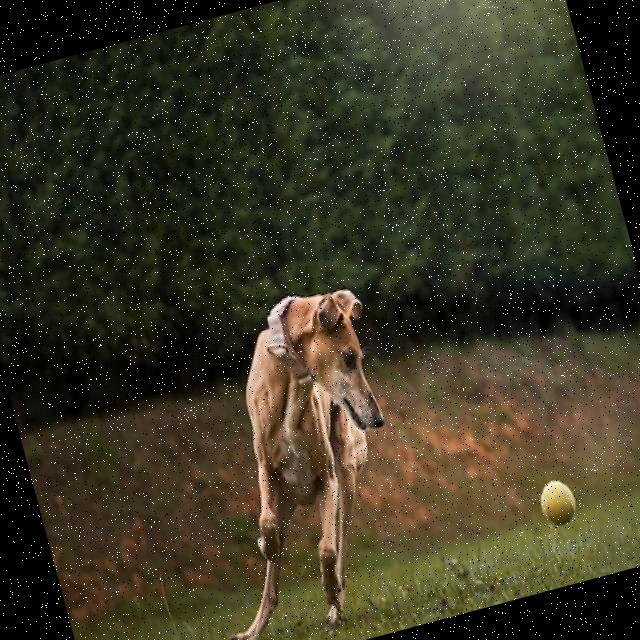Dog: (145, 279, 439, 640)
